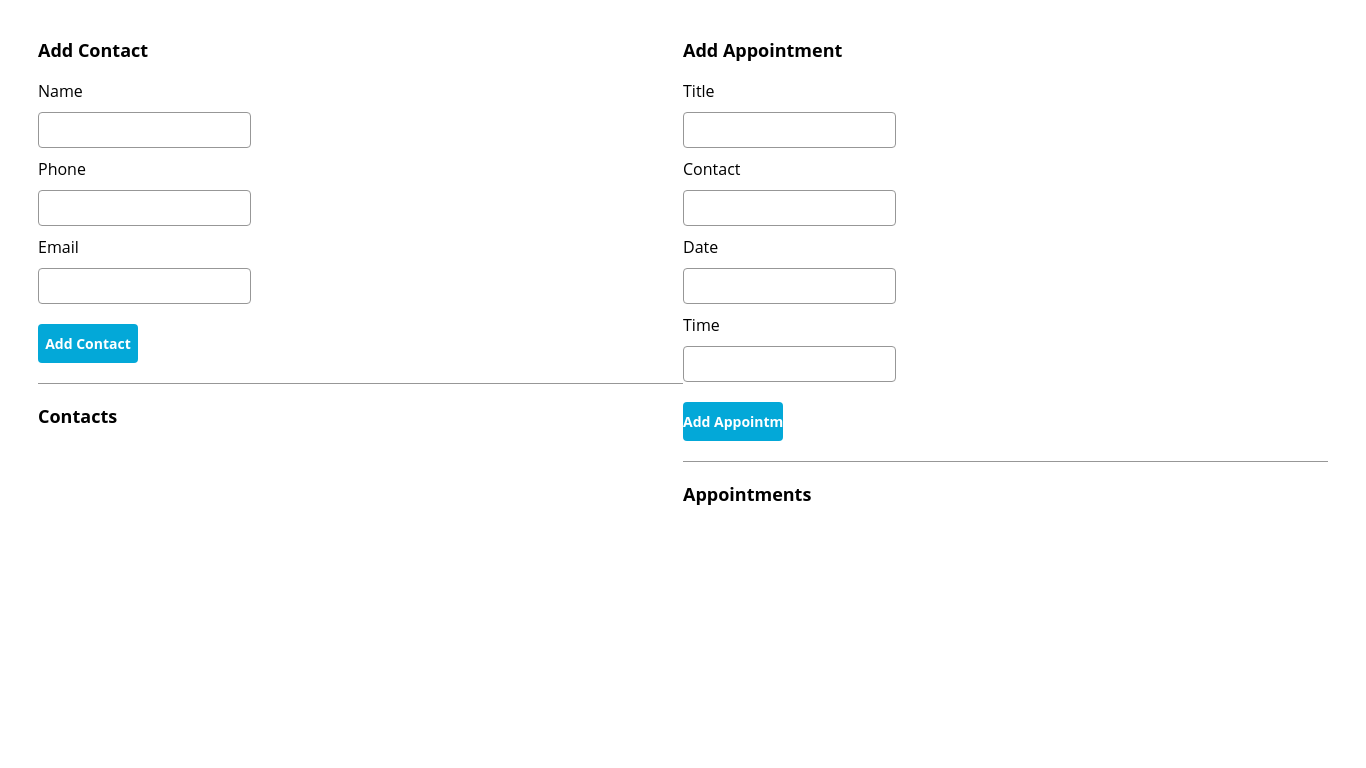
Test: adds a new contact
Expected: the text "Jerry" is not shown
// Fill out the form and submit
Type "Jerry" into the field labelled "Name" at coordinates (144, 130), box [38,112,251,148]
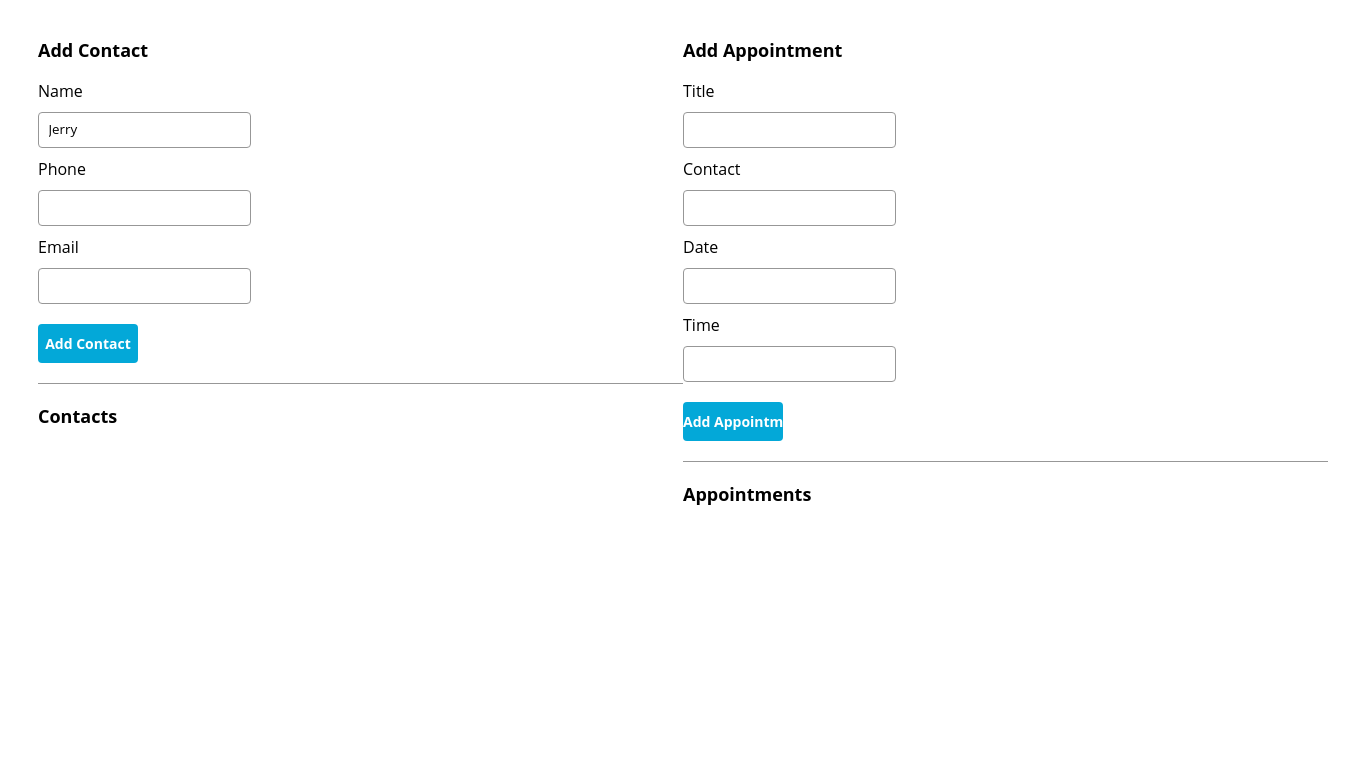
Type "314-555-5555" into the field labelled "Phone" at coordinates (144, 208), box [38,190,251,226]
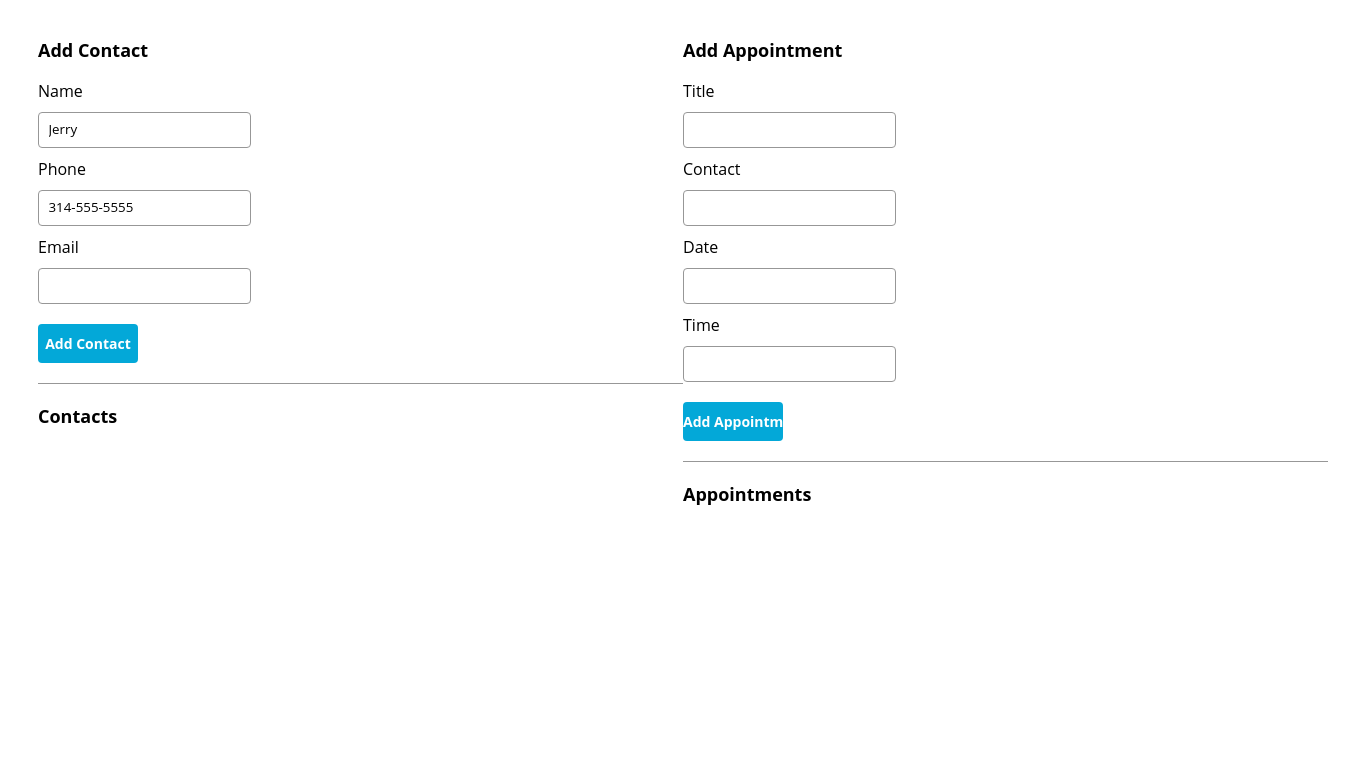
Type "test5@test.com" into the field labelled "Email" at coordinates (144, 286), box [38,268,251,304]
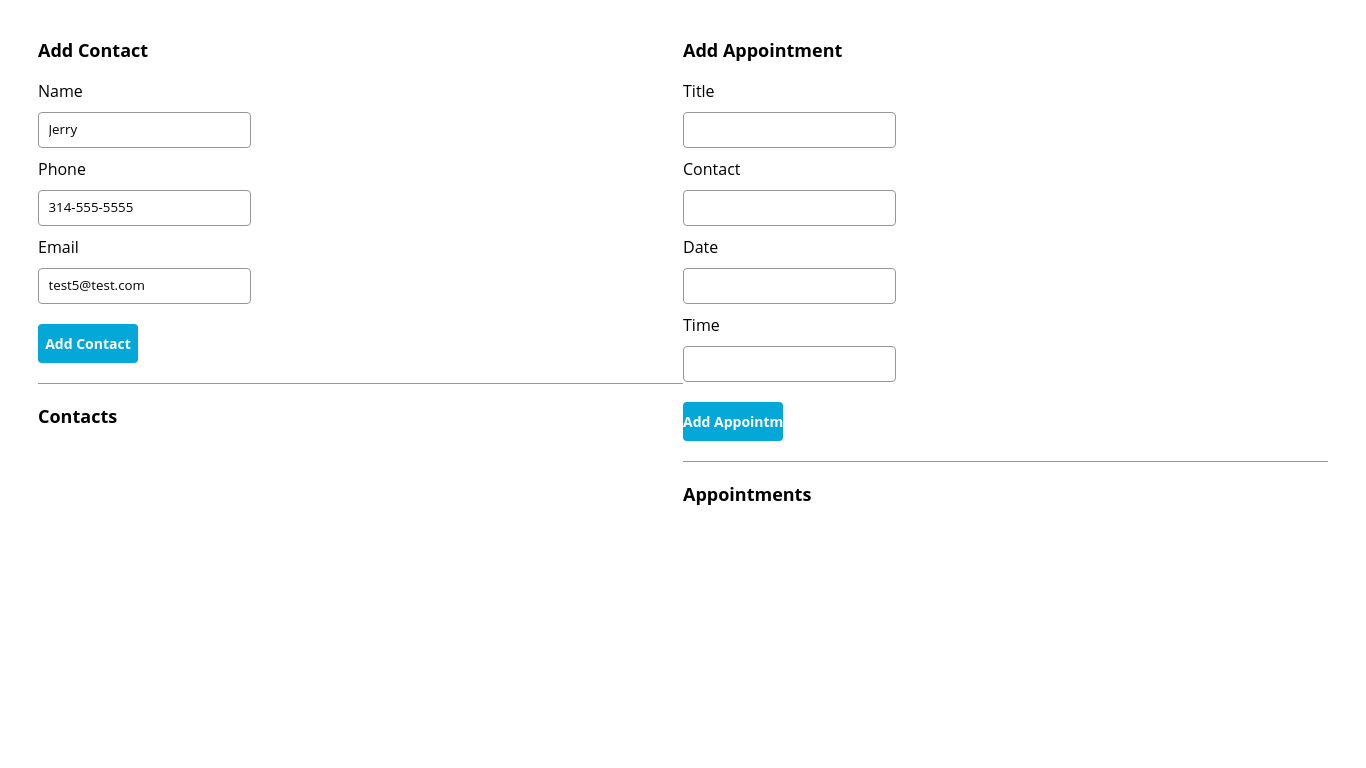
Click the button with test id "addContactBtn" at coordinates (88, 344), box [38,324,138,363]
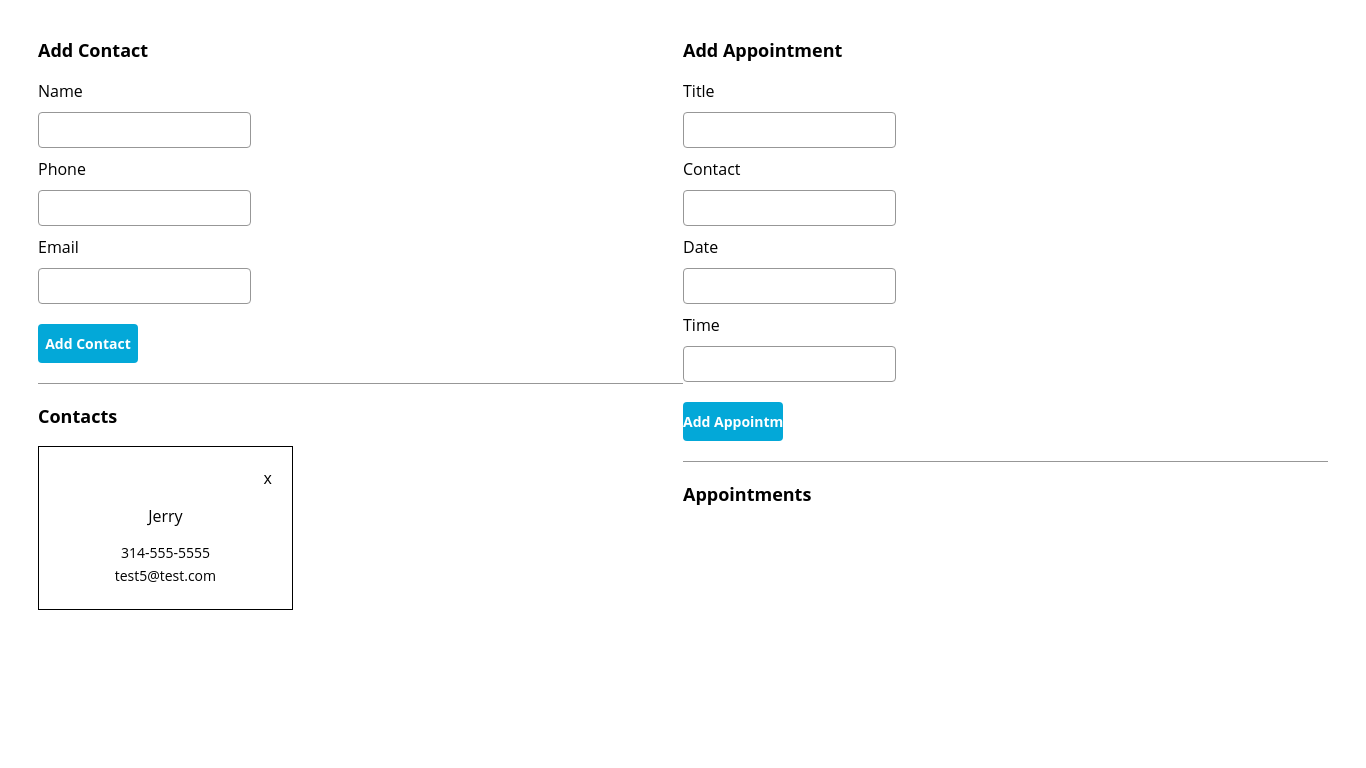
Expected: the text "Jerry" is shown, [148,505,183,527]
Expected: the text "314-555-5555" is shown, [121,543,210,562]
Expected: the text "test5@test.com" is shown, [115,566,216,585]
